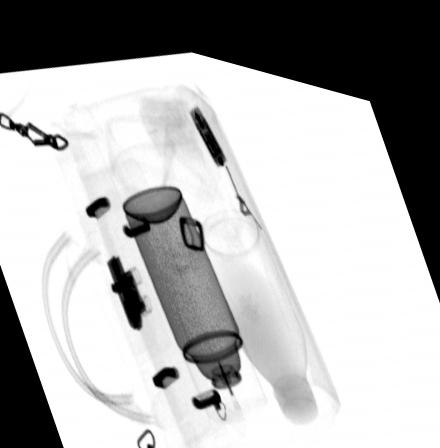Sprayer: (118, 174, 269, 411)
